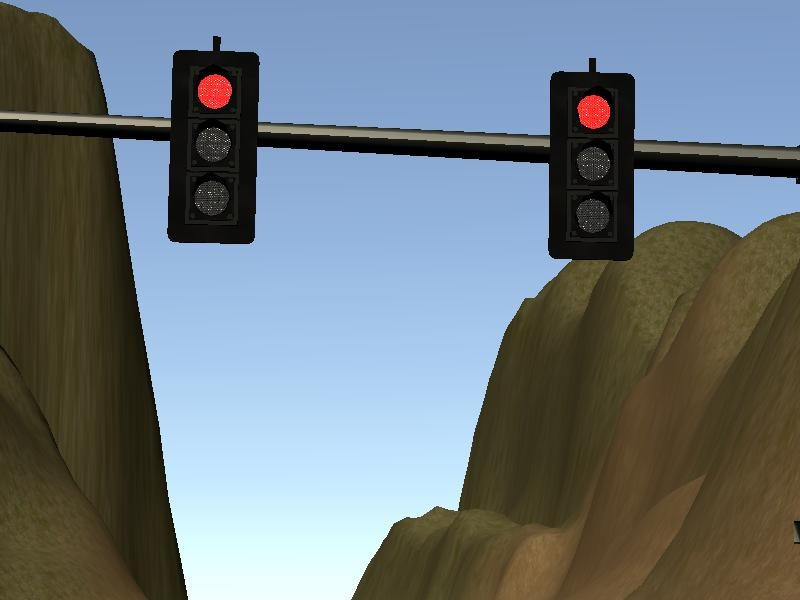red: (168, 51, 256, 244), (550, 72, 635, 259)
